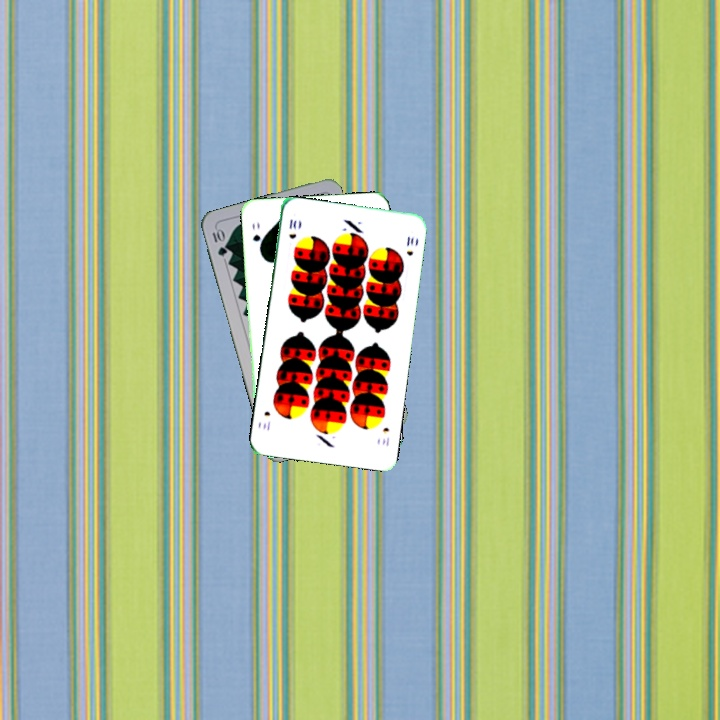G10: (208, 225, 229, 259)
GO: (248, 217, 265, 254)
S10: (285, 215, 299, 241), (378, 423, 392, 449)
